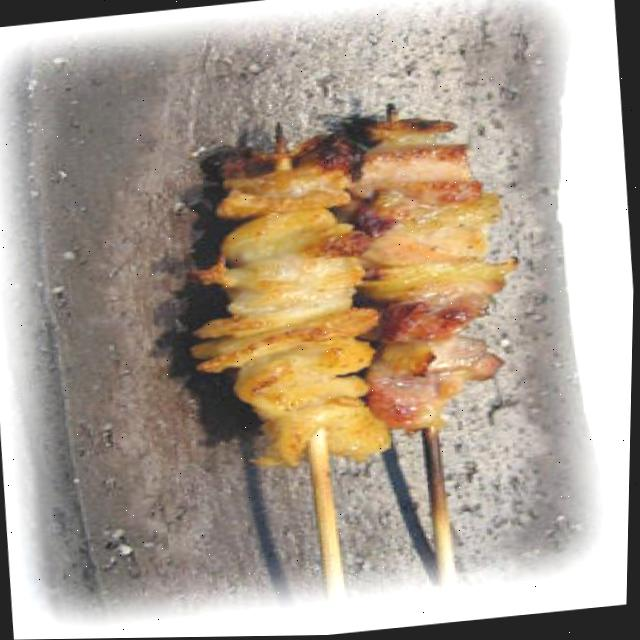烧串烤肉: (120, 85, 562, 579)
